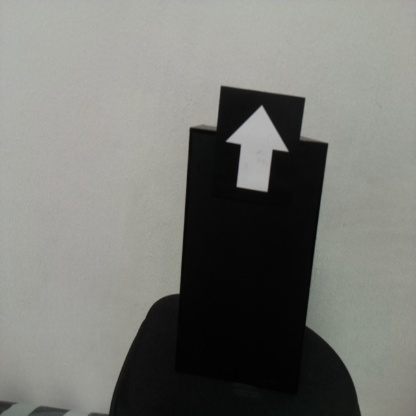id_1: (218, 92, 303, 212)
